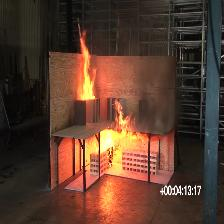fire: (101, 101, 148, 164), (78, 24, 95, 100)
